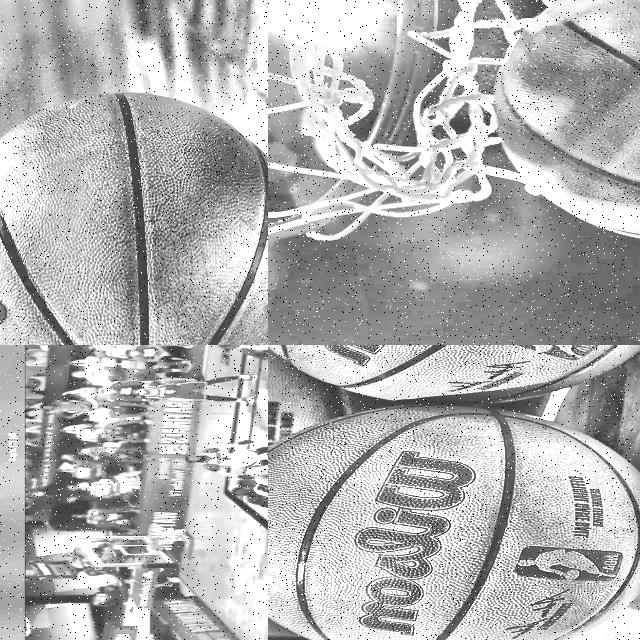Basketball: (268, 345, 640, 640), (0, 93, 268, 345), (86, 410, 108, 421)
